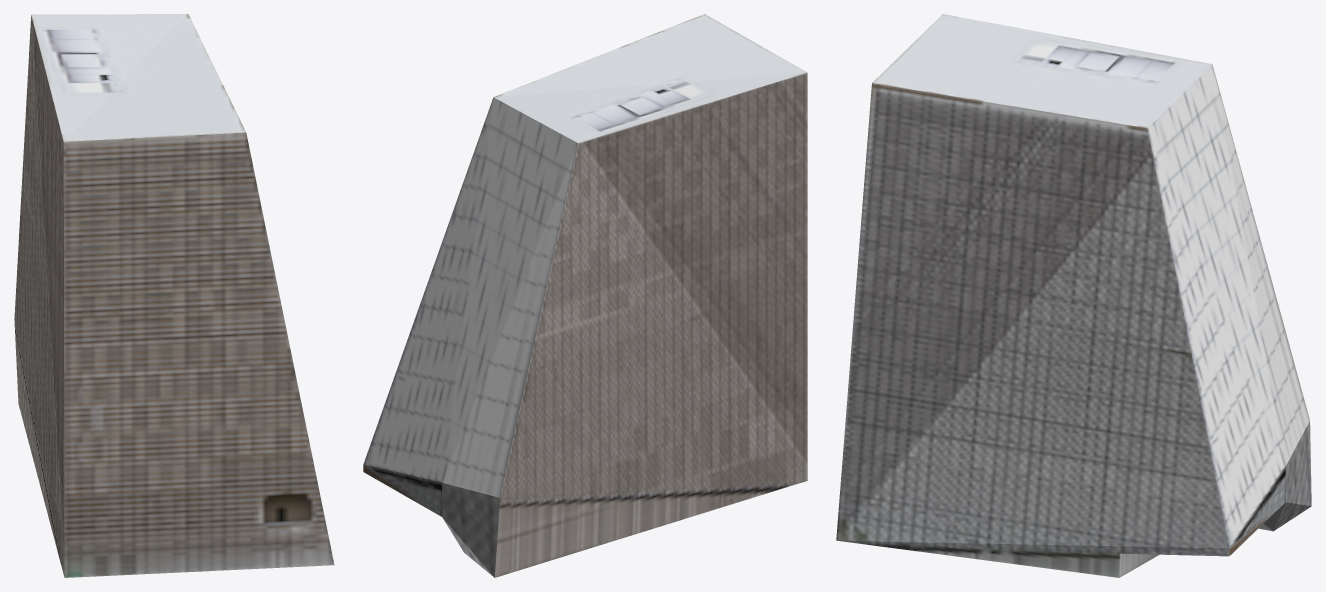
Rendered from 403mix.glb.
3 views of the same model, side by side, from view 1: azimuth 30°, elevation 25°; view 2: azimuth 150°, elevation 25°; view 3: azimuth 270°, elevation 25° (orthographic). The views are drawn at different scales.
Parts seen in each view (by area): view 1: 4.03mix.001; view 2: 4.03mix.001; view 3: 4.03mix.001.
Boxes of the visible parts, bbox=[...] form: 4.03mix.001: bbox=[14, 14, 334, 577]; 4.03mix.001: bbox=[363, 14, 807, 577]; 4.03mix.001: bbox=[836, 14, 1311, 577].
Size of the model in its own units: 47.86 by 61.05 by 61.99.
1 material, 1 textured.
